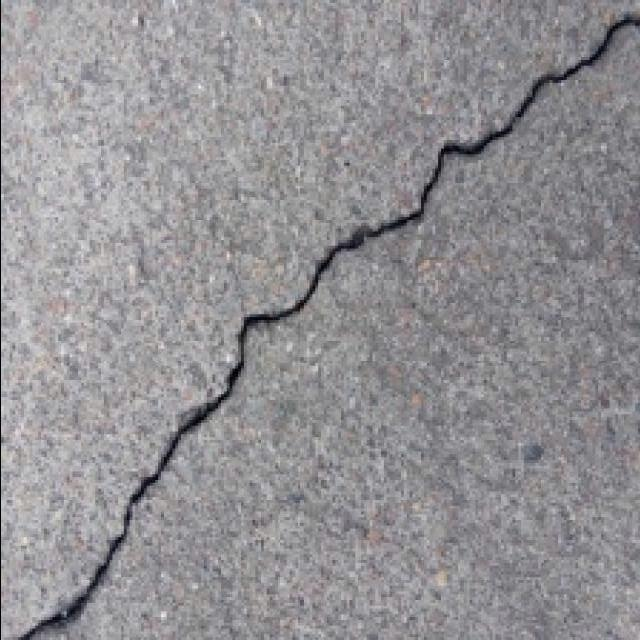SurfaceCrack: (2, 4, 636, 640)
